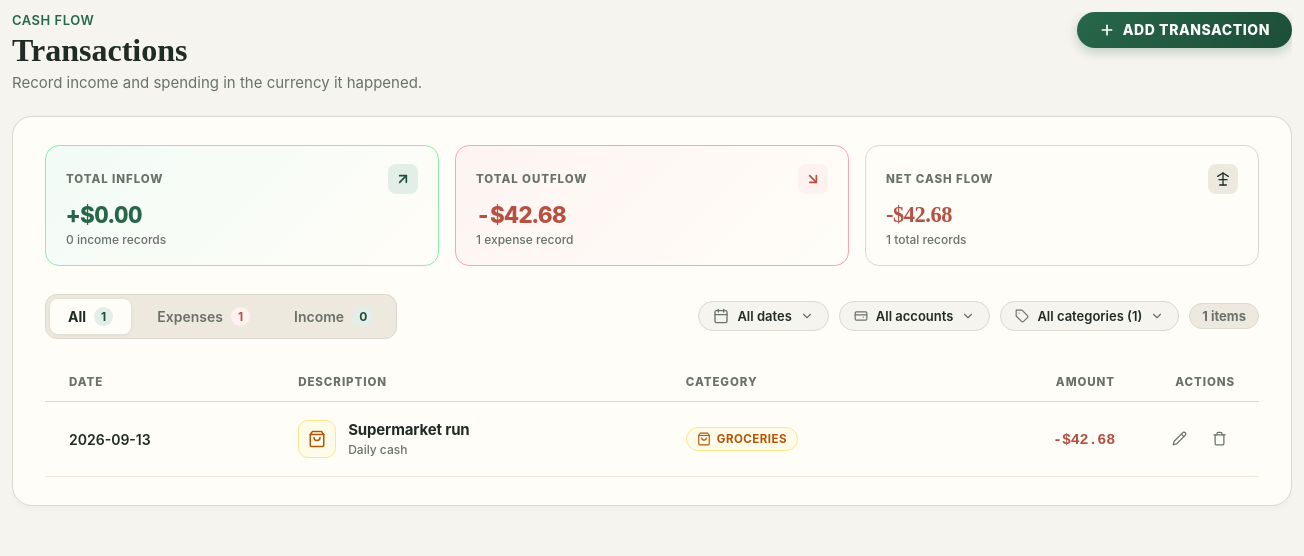
Test: FinancialRecordsView › filters transactions when category is selected from dropdown
The width and height of the screenshot is (1304, 556).
Switch to Expenses tab
Click the tab "Expenses 1" at (204, 316), box left=139, top=299, right=268, bottom=334
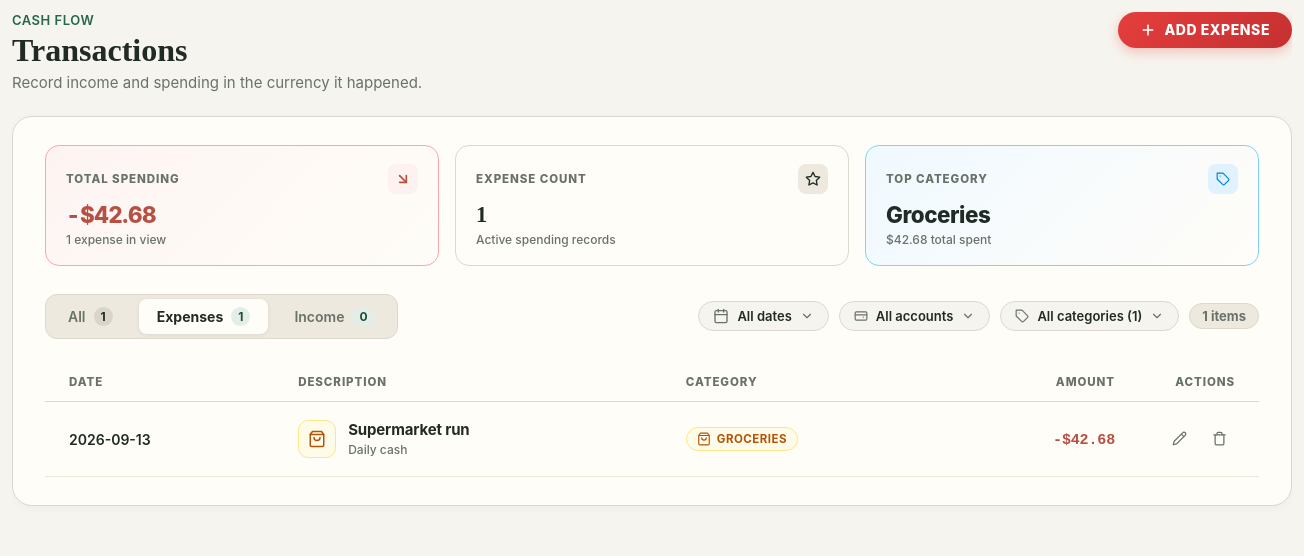
Transportation has 0 records, Groceries has 1 record
Click the dropdown named "filter by category" at (1090, 316), box left=1000, top=301, right=1179, bottom=331
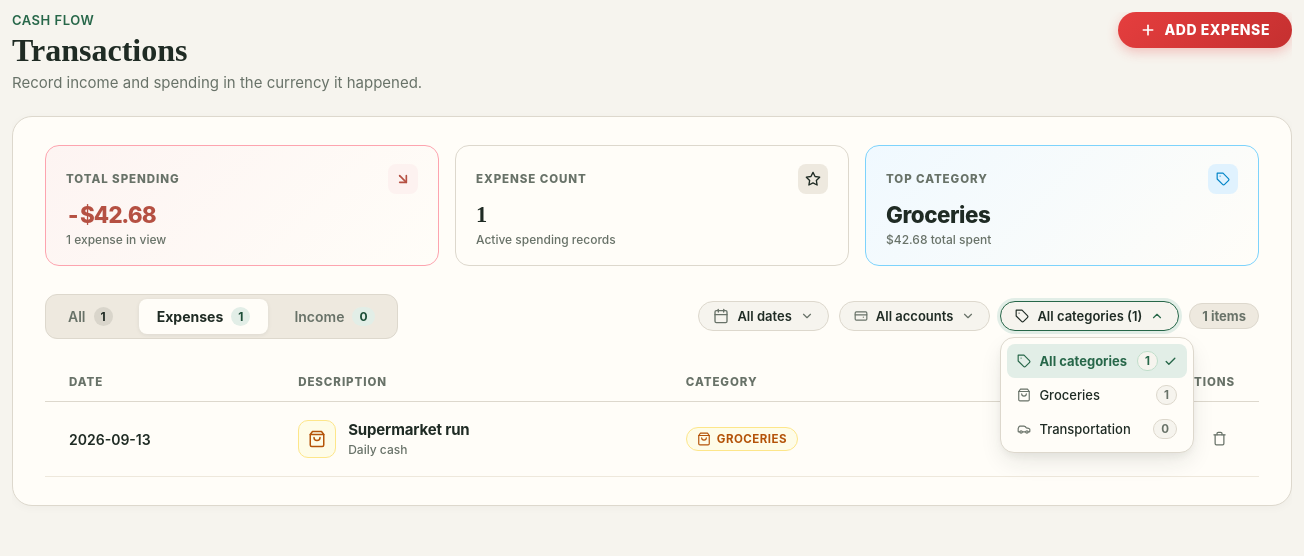
Click the option "Transportation 0" at (1097, 429), box left=1017, top=419, right=1177, bottom=439
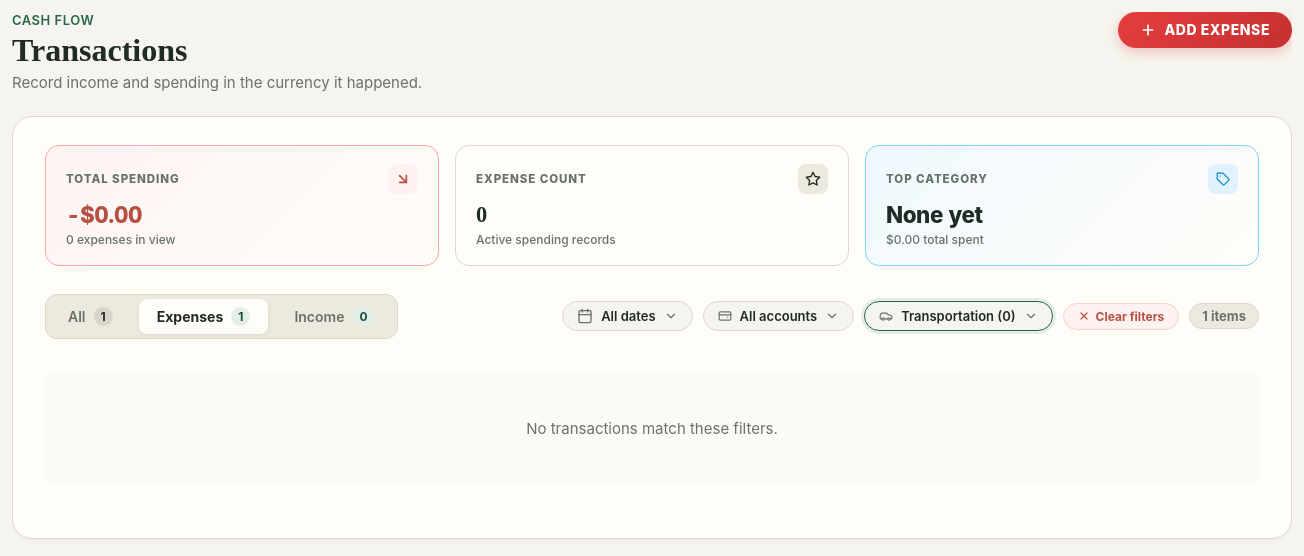
Check: the text "No transactions match these filters." is shown, box left=45, top=371, right=1259, bottom=486
Reset to All categories
Click the dropdown named "filter by category" at (958, 316), box left=864, top=301, right=1053, bottom=331
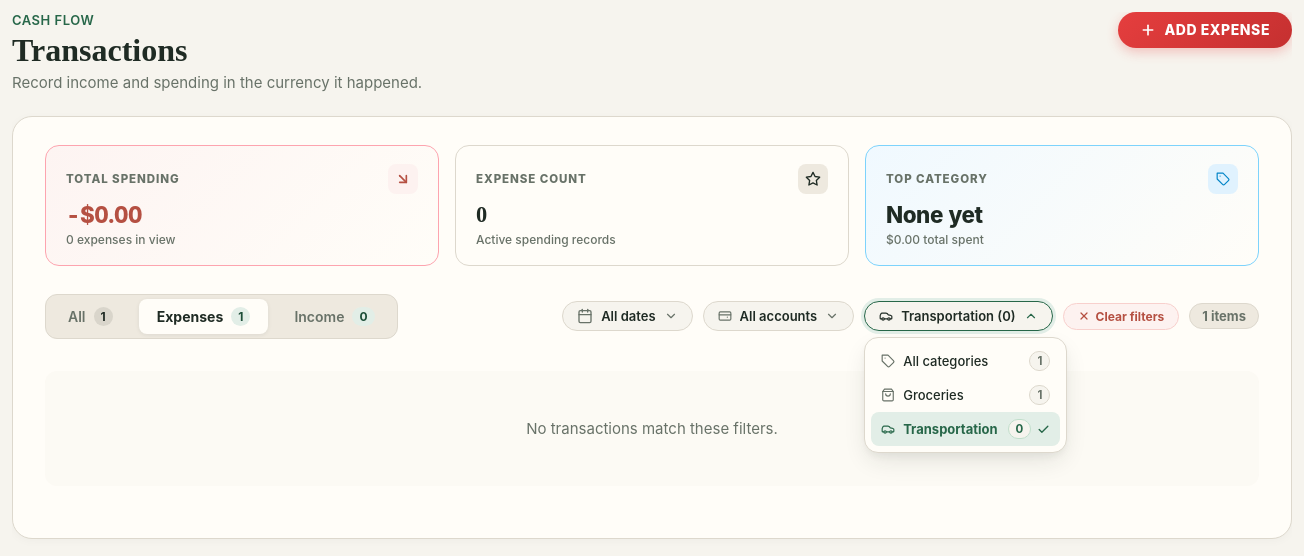
Click the option "All categories 1" at (966, 361), box left=881, top=351, right=1050, bottom=371
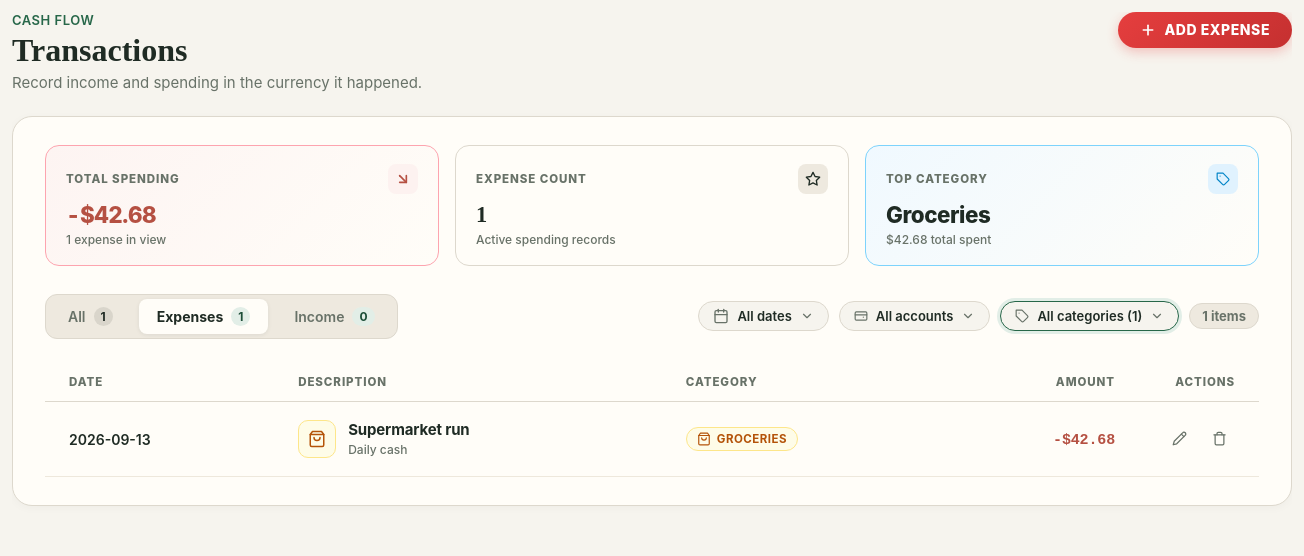
Check: the text "Supermarket run" is shown, box left=348, top=420, right=470, bottom=439
